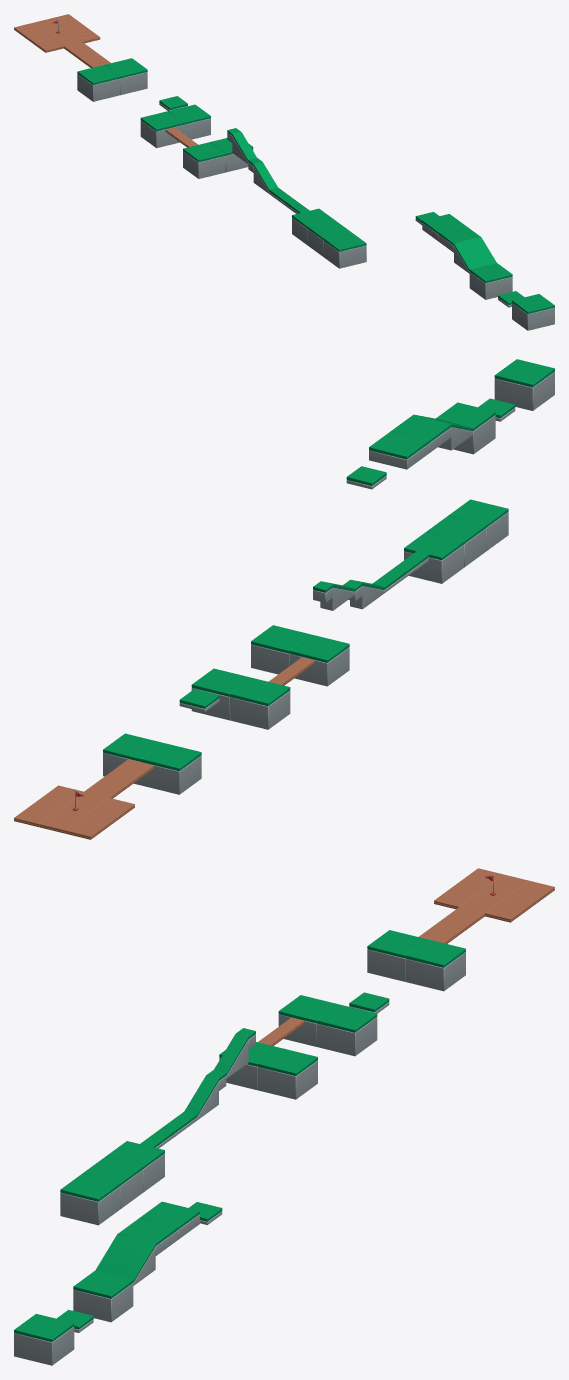
The model's file is level5.glb.
3 views of the same model, one above another, from view 1: azimuth 30°, elevation 25°; view 2: azimuth 150°, elevation 25°; view 3: azimuth 330°, elevation 25° (orthographic). The views are drawn at different scales.
Visible parts, largest first — view 1: platform_6x6x4_green.009, platform_6x6x4_green.003, Start_3, platform_6x6x4_green.001, platform_6x6x4_green.002, platform_6x6x4_green.007, platform_slope_6x6x4_green.001, platform_6x6x4_green.010, platform_6x6x4_green.008, platform_6x6x4_green.004, platform_6x6x4_green.005, platform_6x6x2_green.002 (+4 smaller); view 2: platform_6x6x4_green.007, Start_3, platform_6x6x4_green.009, platform_6x6x4_green.001, platform_6x6x4_green.005, platform_6x6x4_green.006, platform_6x6x4_green.002, platform_6x6x2_green.002, platform_6x6x4_green.003, platform_6x6x4_green.004, platform_6x6x4_green.008, platform_6x6x4_green.010 (+3 smaller); view 3: platform_6x6x4_green.003, platform_6x6x4_green.008, Start_3, platform_6x6x4_green.006, platform_6x6x4_green.010, platform_6x6x4_green.002, platform_slope_6x6x4_green.001, platform_6x6x4_green.009, platform_6x6x4_green.007, platform_6x6x4_green.004, platform_6x6x4_green.005, platform_6x6x2_green.001 (+4 smaller).
Part boxes in pixels (x1,y1,x2,y2): platform_6x6x4_green.009: [77, 65, 120, 101]; platform_6x6x4_green.003: [323, 231, 366, 268]; Start_3: [512, 294, 554, 330]; platform_6x6x4_green.001: [183, 142, 225, 178]; platform_6x6x4_green.002: [469, 263, 512, 299]; platform_6x6x4_green.007: [140, 111, 183, 148]; platform_slope_6x6x4_green.001: [454, 237, 496, 273]; platform_6x6x4_green.010: [105, 58, 147, 95]; platform_6x6x4_green.008: [168, 104, 210, 139]; platform_6x6x4_green.004: [307, 220, 350, 256]; platform_6x6x4_green.005: [292, 208, 334, 245]; platform_6x6x2_green.002: [422, 214, 464, 240]; platform_6x6x4_green.007: [230, 678, 290, 729]; Start_3: [494, 359, 554, 410]; platform_6x6x4_green.009: [141, 743, 201, 794]; platform_6x6x4_green.001: [289, 634, 349, 686]; platform_6x6x4_green.005: [404, 532, 463, 583]; platform_6x6x4_green.006: [251, 625, 310, 674]; platform_6x6x4_green.002: [436, 402, 495, 454]; platform_6x6x2_green.002: [369, 431, 429, 469]; platform_6x6x4_green.003: [448, 499, 508, 550]; platform_6x6x4_green.004: [426, 515, 486, 567]; platform_6x6x4_green.008: [191, 668, 251, 720]; platform_6x6x4_green.010: [103, 733, 162, 785]; platform_6x6x4_green.003: [60, 1173, 120, 1225]; platform_6x6x4_green.008: [317, 1004, 377, 1056]; Start_3: [14, 1313, 74, 1365]; platform_6x6x4_green.006: [257, 1048, 317, 1099]; platform_6x6x4_green.010: [405, 939, 465, 991]; platform_6x6x4_green.002: [73, 1270, 133, 1322]; platform_slope_6x6x4_green.001: [95, 1234, 155, 1285]; platform_6x6x4_green.009: [367, 930, 427, 981]; platform_6x6x4_green.007: [278, 995, 338, 1046]; platform_6x6x4_green.004: [83, 1157, 142, 1208]; platform_6x6x4_green.005: [105, 1141, 164, 1192]; platform_6x6x2_green.001: [118, 1218, 177, 1255].
Bounding box in the file's own units: 26 × 10 × 160.
10 materials, 10 textured.
